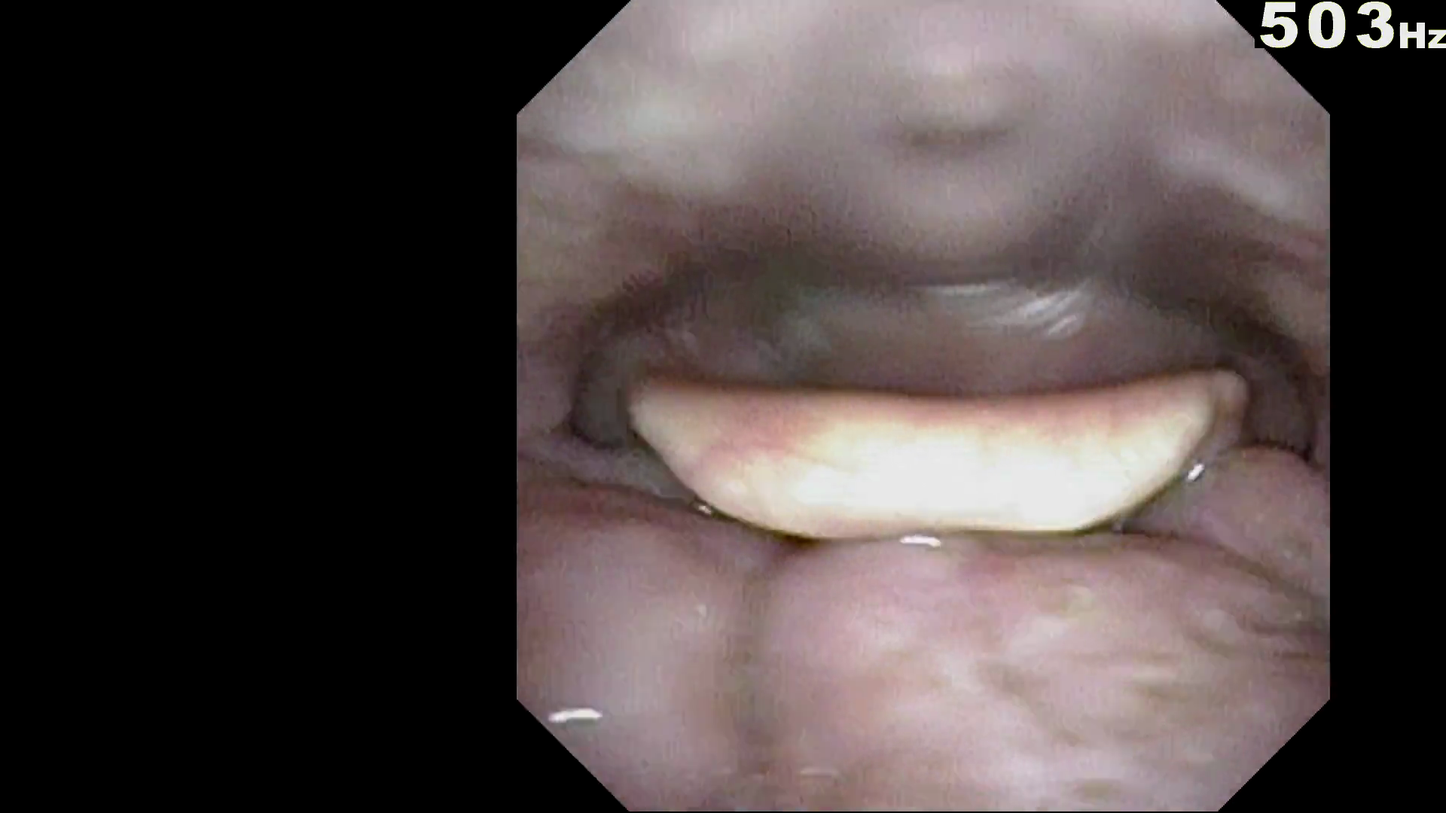epiglottis: (644, 408, 1259, 632)
